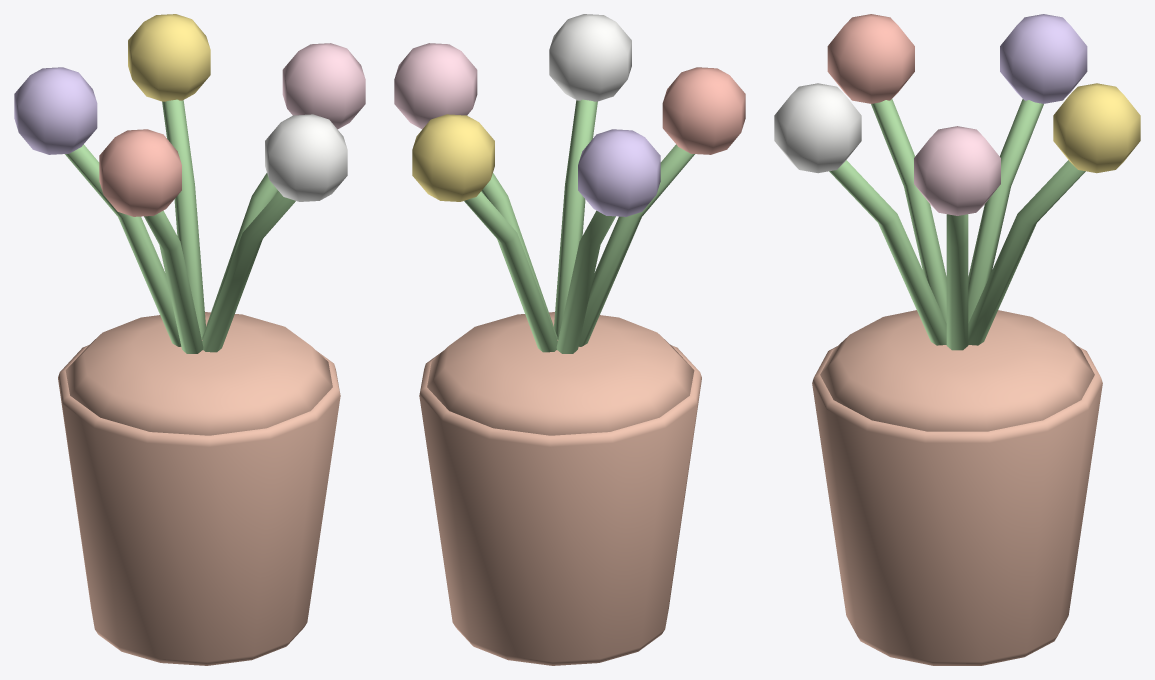
The model's file is vaso_decorativo.glb.
3 renders of one model, left to right at view 1: azimuth 30°, elevation 25°; view 2: azimuth 150°, elevation 25°; view 3: azimuth 270°, elevation 25°, orthographic.
Visible parts, largest first — view 1: vaso_decorativo; view 2: vaso_decorativo; view 3: vaso_decorativo.
Part boxes in pixels (x1,y1,x2,y2): vaso_decorativo: (14,14,365,665); vaso_decorativo: (394,14,745,665); vaso_decorativo: (774,14,1140,665).
Bounding box in the file's own units: 0.3845 × 0.67 × 0.3994.
